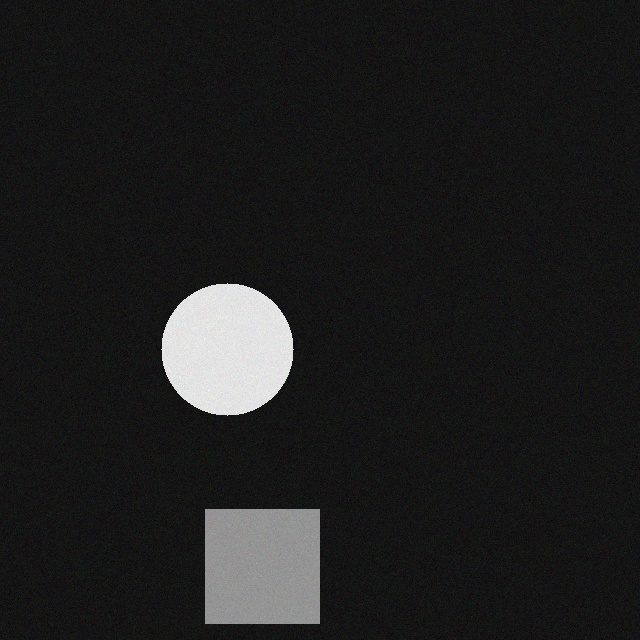circle: (172, 280, 304, 412)
square: (216, 506, 330, 620)
